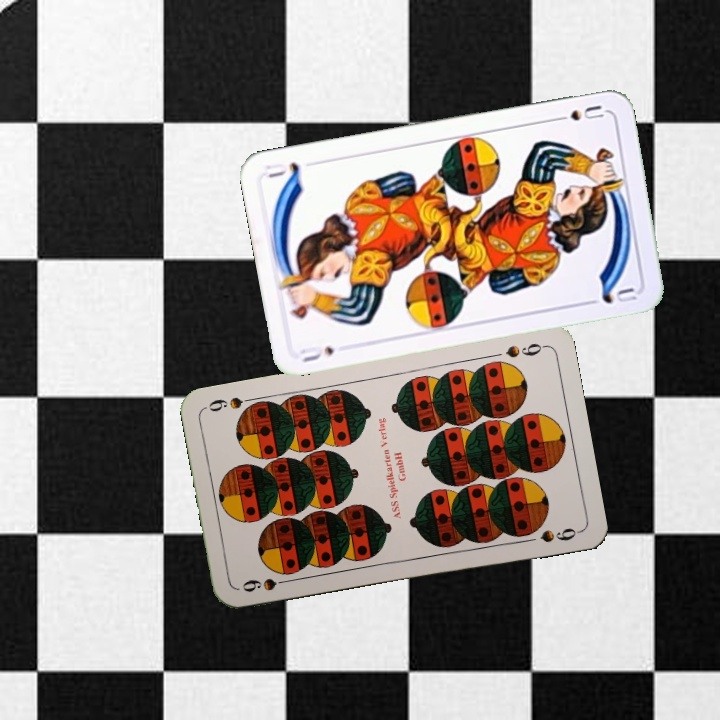S9: (238, 574, 296, 595), (501, 339, 548, 361)
SU: (549, 101, 606, 125), (296, 341, 336, 365)
